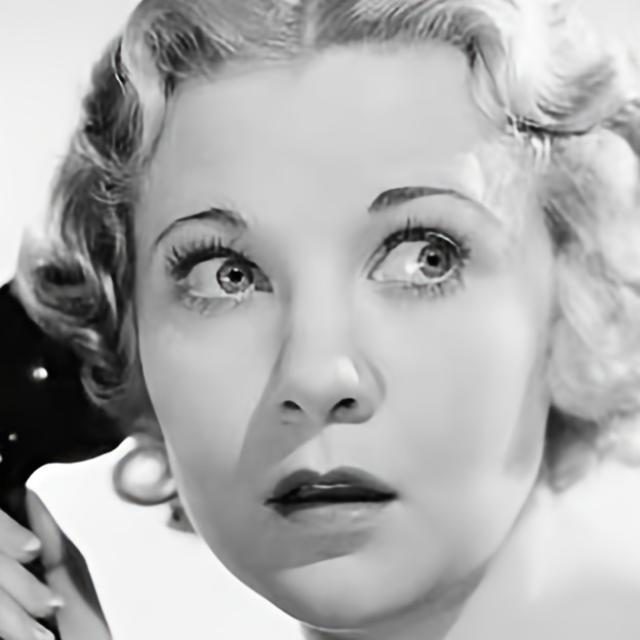fear: (127, 38, 552, 620)
